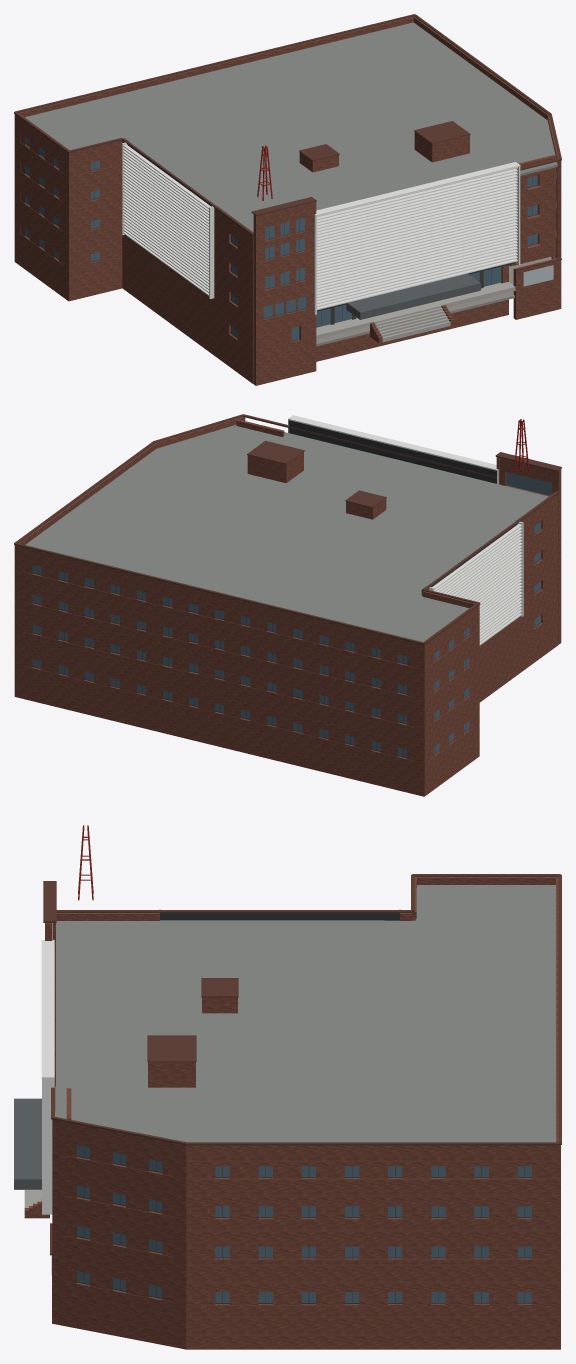
3 renders of one model, top to bottom at view 1: azimuth 30°, elevation 25°; view 2: azimuth 150°, elevation 25°; view 3: azimuth 270°, elevation 25°, orthographic. The views are drawn at different scales.
Visible parts, largest first — view 1: s12__roof, s12__brick-wall, s12__louver-white, s12__brick-coping, s12__glass, s12__stone-canopy-wall, s12__entrance-landing, s12__concrete-step, s12__floor-slab, s12__frame, s12__door-glass, s12__glass-block-wall; view 2: s12__brick-wall, s12__roof, s12__louver-white, s12__glass, s12__brick-coping, s12__louver-back-wall, s12__frame; view 3: s12__roof, s12__brick-wall, s12__brick-coping, s12__glass, s12__louver-white, s12__stone-canopy-wall, s12__louver-back-wall, s12__frame.
Part boxes in pixels (<box>): s12__roof: <box>25,22,557,232</box>; s12__brick-wall: <box>14,16,561,385</box>; s12__louver-white: <box>122,142,520,314</box>; s12__brick-coping: <box>14,14,561,270</box>; s12__glass: <box>25,136,556,340</box>; s12__stone-canopy-wall: <box>346,273,480,319</box>; s12__entrance-landing: <box>316,282,515,339</box>; s12__concrete-step: <box>375,307,450,342</box>; s12__floor-slab: <box>316,256,551,346</box>; s12__frame: <box>25,139,538,341</box>; s12__door-glass: <box>316,266,500,327</box>; s12__glass-block-wall: <box>523,265,553,286</box>; s12__brick-wall: <box>14,416,561,796</box>; s12__roof: <box>25,425,548,641</box>; s12__louver-white: <box>288,415,523,645</box>; s12__glass: <box>32,472,552,757</box>; s12__brick-coping: <box>14,414,561,644</box>; s12__louver-back-wall: <box>288,420,517,587</box>; s12__frame: <box>33,521,541,758</box>; s12__roof: <box>56,885,555,1142</box>; s12__brick-wall: <box>24,877,560,1349</box>; s12__brick-coping: <box>43,874,561,1255</box>; s12__glass: <box>77,1145,531,1302</box>; s12__louver-white: <box>41,909,401,1214</box>; s12__stone-canopy-wall: <box>14,1098,41,1189</box>; s12__louver-back-wall: <box>160,913,399,920</box>; s12__frame: <box>77,1147,531,1303</box>.
Size of the model in its own units: 53.32 by 28.26 by 45.79.
Materials: 17 (1 with a texture image).
